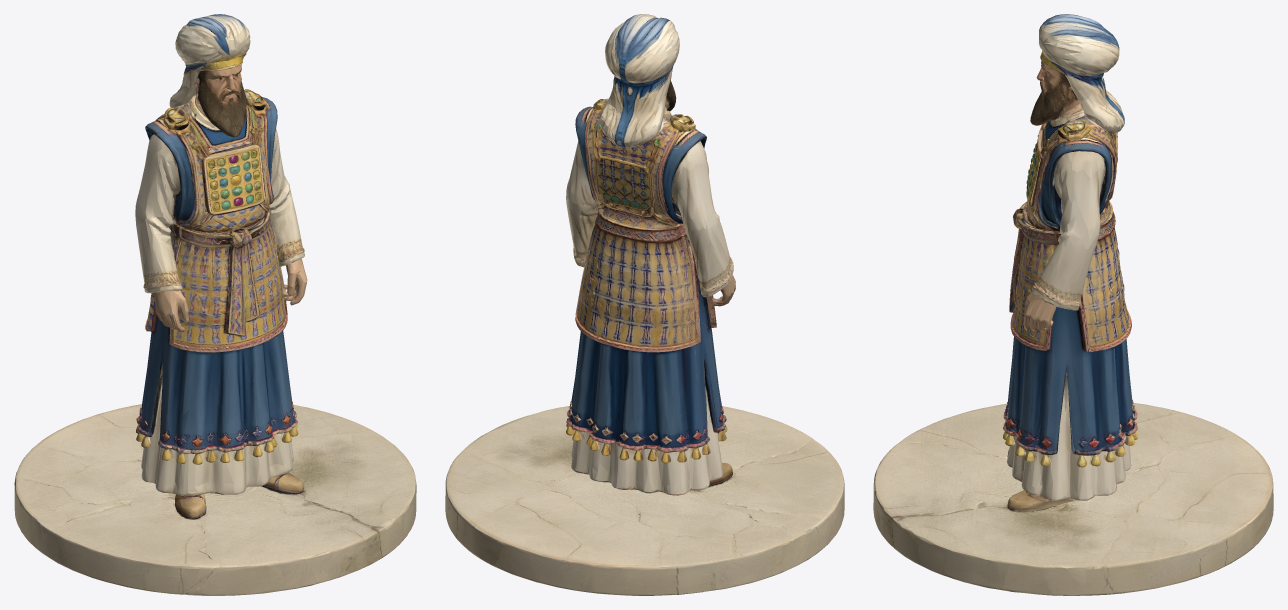
File: priest.glb
The picture shows the model from 3 angles, left to right: view 1: azimuth 30°, elevation 25°; view 2: azimuth 150°, elevation 25°; view 3: azimuth 270°, elevation 25°; orthographic projection.
Bounding box in the file's own units: 1.4 × 1.9 × 1.4.
1 material, 1 textured.
